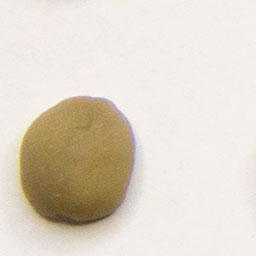premium: (17, 93, 138, 230)
